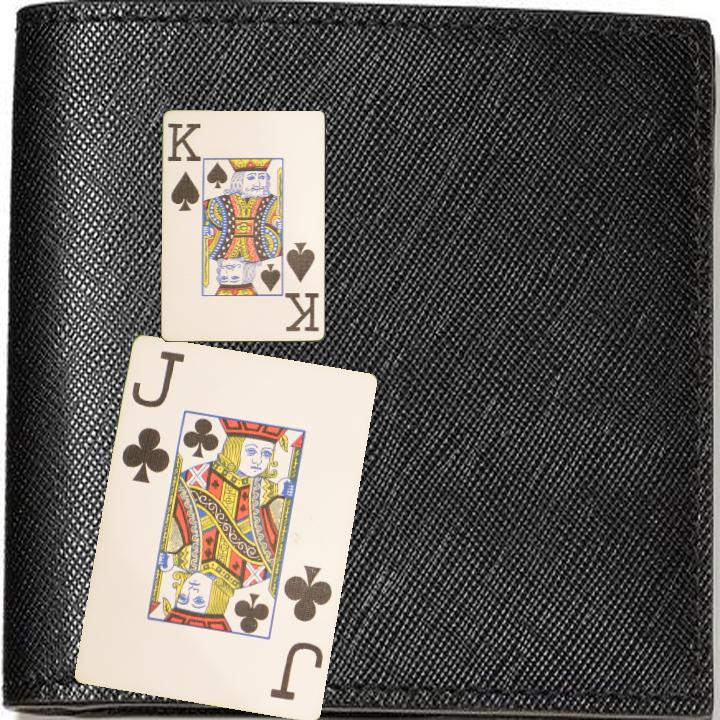Jc: (118, 347, 188, 487), (267, 562, 336, 704)
Ks: (283, 239, 322, 335), (164, 120, 203, 214)
